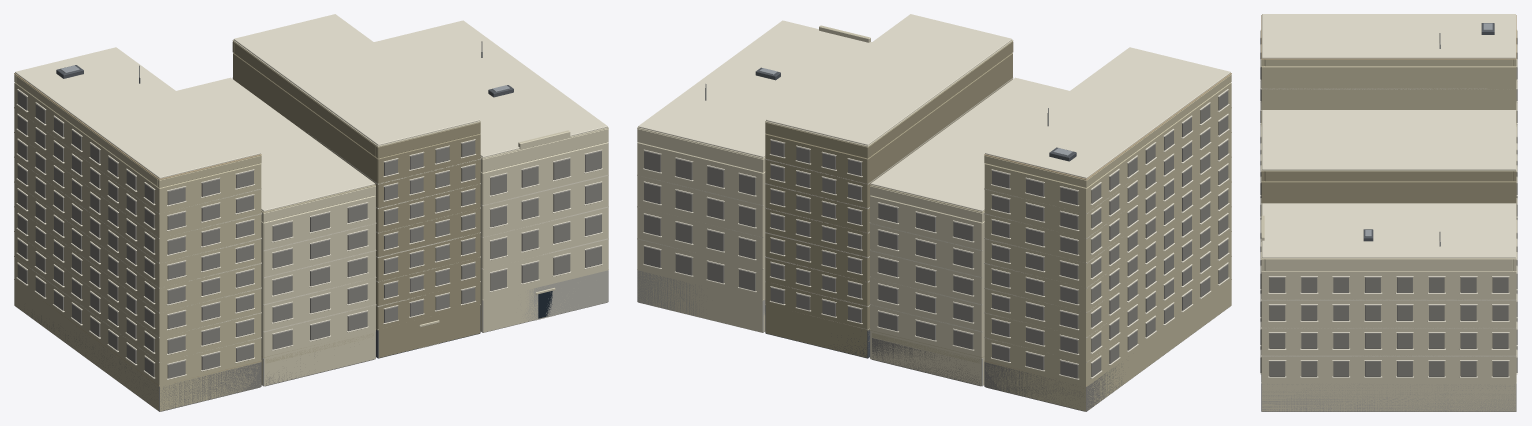
Rendered from VG_Bld_Downtown_09.fbx.
3 renders of one model, left to right at view 1: azimuth 30°, elevation 25°; view 2: azimuth 150°, elevation 25°; view 3: azimuth 270°, elevation 25°, orthographic. The views are drawn at different scales.
Parts seen in each view (by area): view 1: VG_Bld_Downtown_09_Body; view 2: VG_Bld_Downtown_09_Body; view 3: VG_Bld_Downtown_09_Body.
Part boxes in pixels (x1=…): VG_Bld_Downtown_09_Body: x1=14, y1=14, x2=608, y2=411; VG_Bld_Downtown_09_Body: x1=637, y1=14, x2=1231, y2=411; VG_Bld_Downtown_09_Body: x1=1260, y1=14, x2=1517, y2=411.
Bounding box in the file's own units: 66 × 35.12 × 37.
